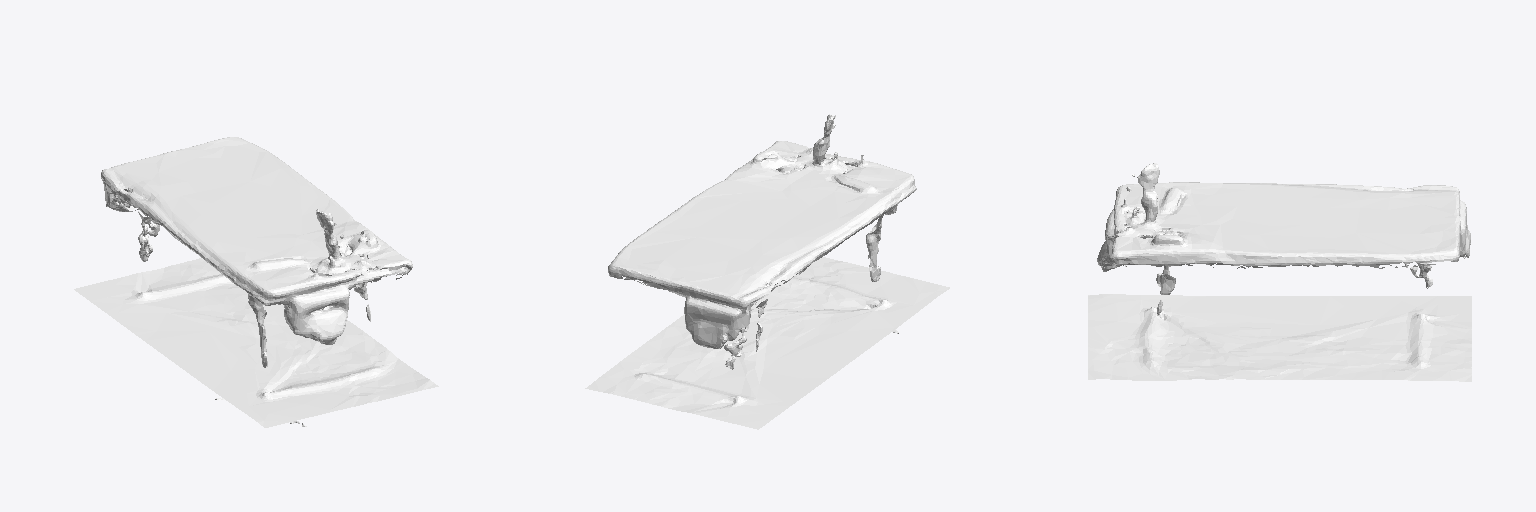
Rendered from Dining_table.obj.
3 views of the same model, side by side, from view 1: azimuth 30°, elevation 25°; view 2: azimuth 150°, elevation 25°; view 3: azimuth 270°, elevation 25° (orthographic).
Parts seen in each view (by area): view 1: mesh; view 2: mesh; view 3: mesh.
Boxes of the visible parts, x1,y1,x2,y2 form: mesh: [74, 137, 438, 427]; mesh: [585, 114, 949, 429]; mesh: [1088, 163, 1471, 381].
Bounding box in the file's own units: 0.6835 × 0.699 × 1.31.